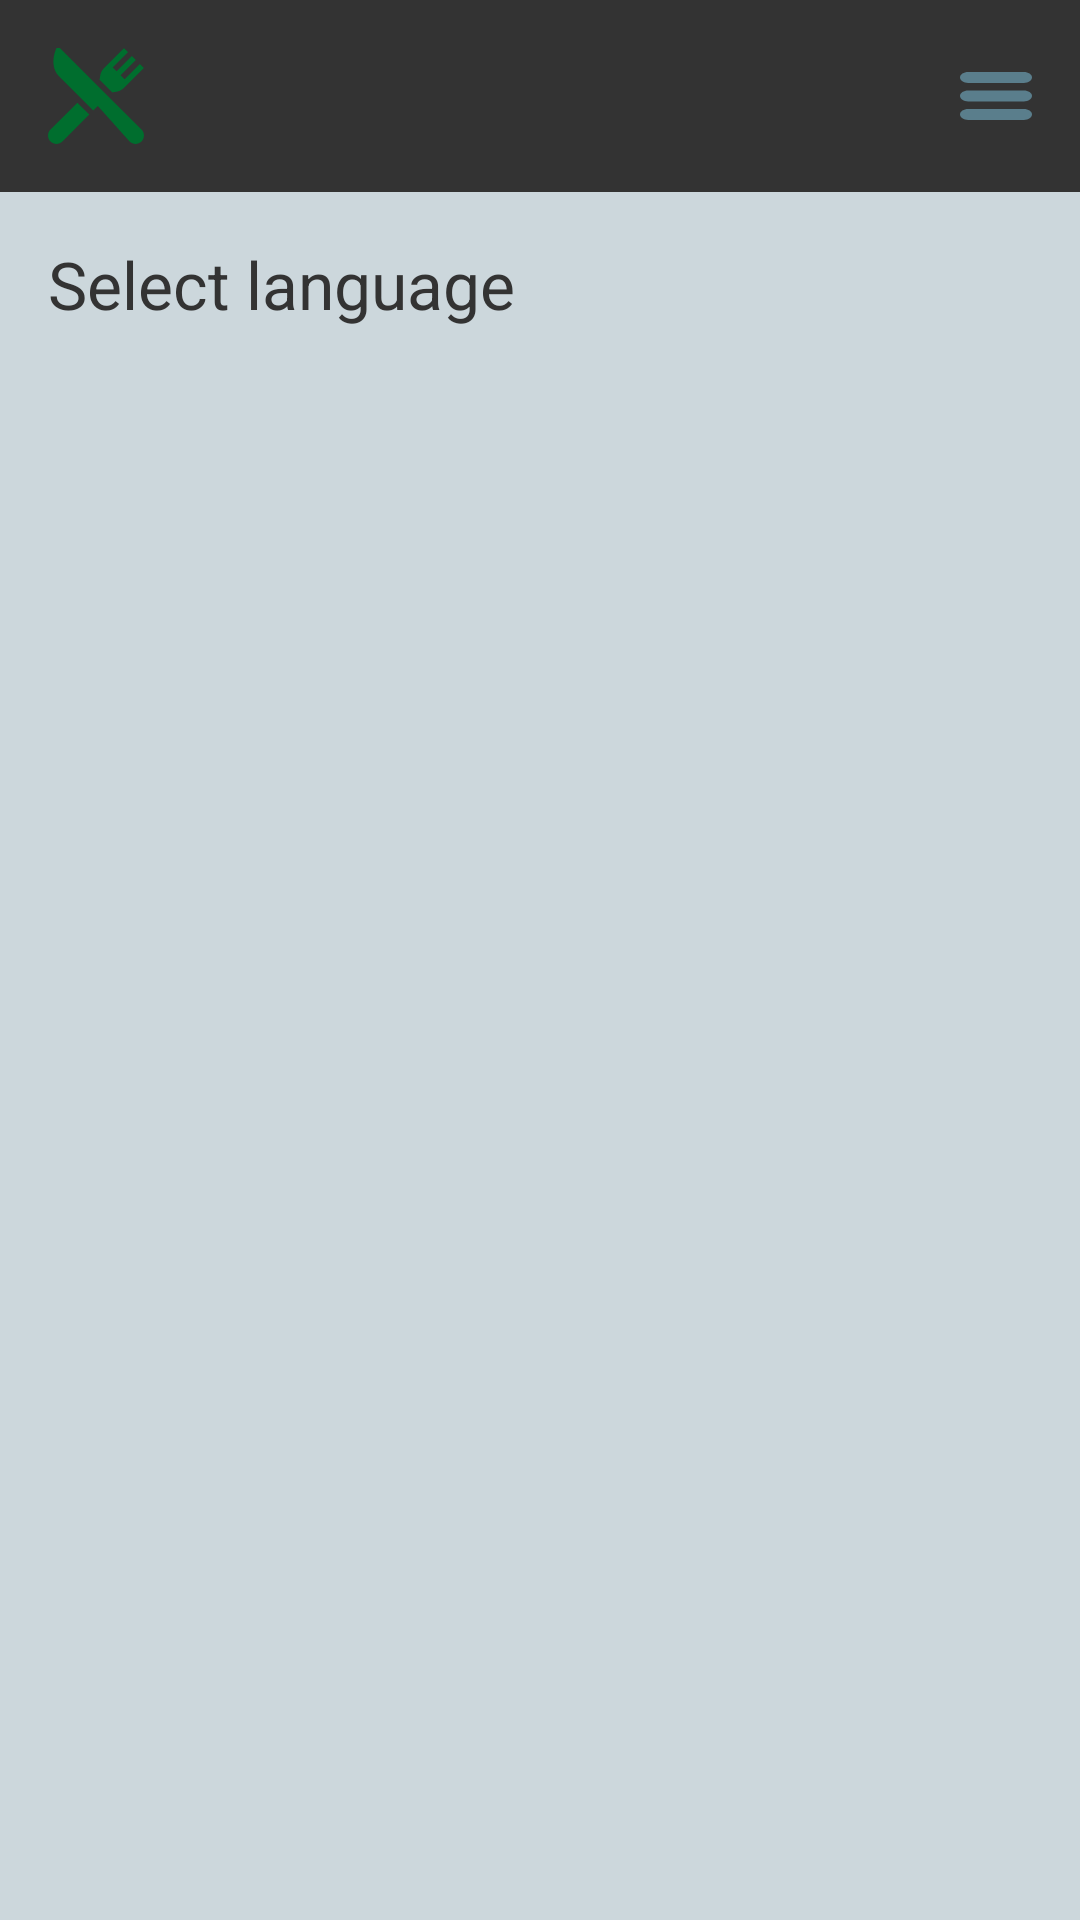

Where icons sit on this 1080px x 1920px app screen, as {"x1": x1, "y1": y1, "x2": x2, "y2": y2}:
toggle menu: {"x1": 960, "y1": 72, "x2": 1032, "y2": 120}
